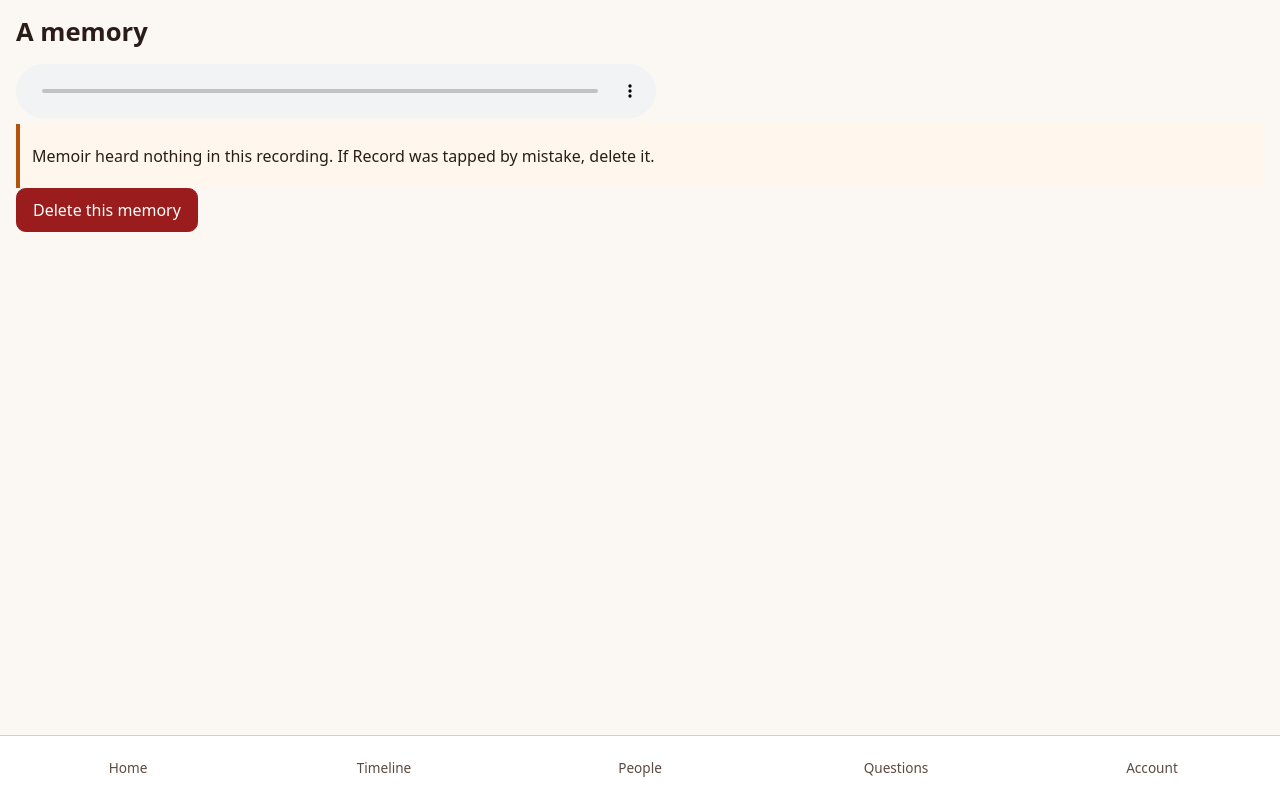
it: a memory with nothing heard says so and can be deleted
The image size is (1280, 800).
Expected: the text "Memoir heard nothing in this recording" is shown, [32, 145, 654, 167]
Click the button "Delete this memory": (107, 210) [16, 188, 198, 232]
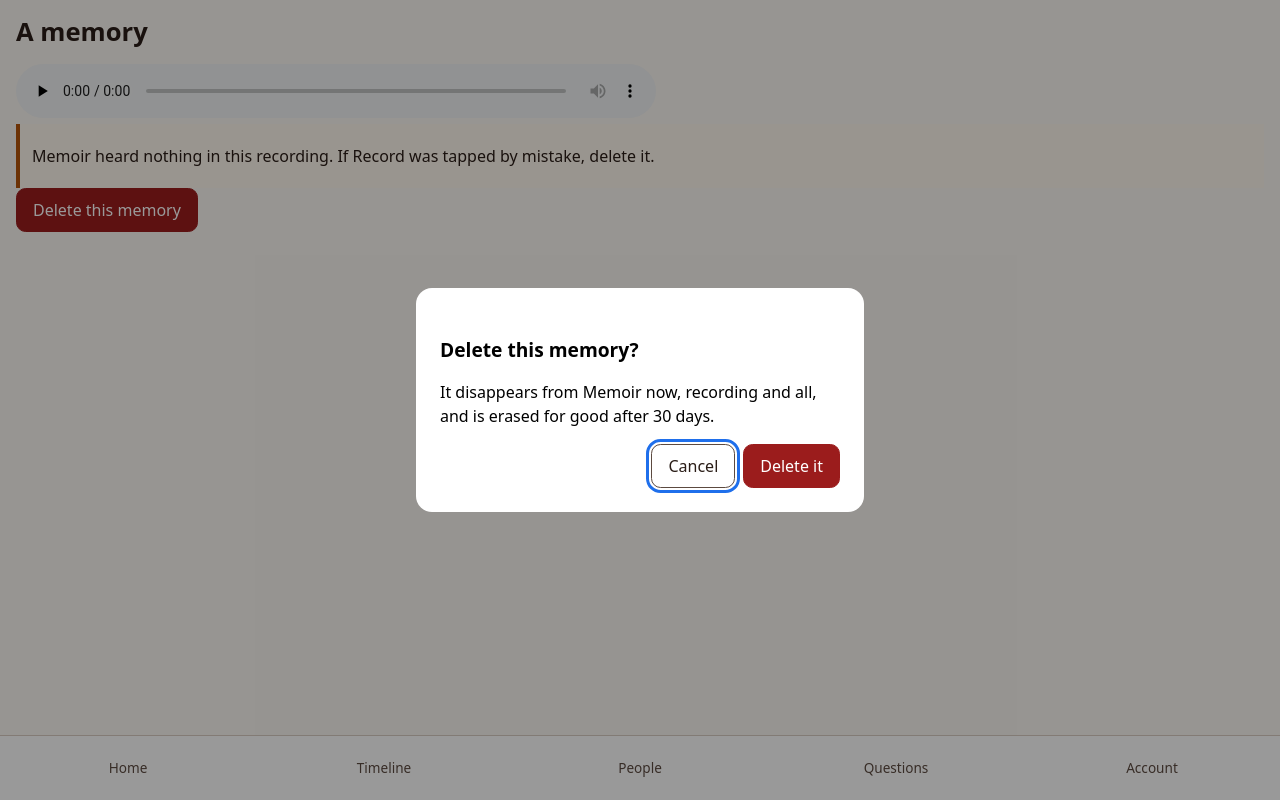
Now the text "erased for good after 30 days" is shown, box [440, 381, 817, 427]
Click the button "Delete it": (792, 466) [743, 444, 840, 488]
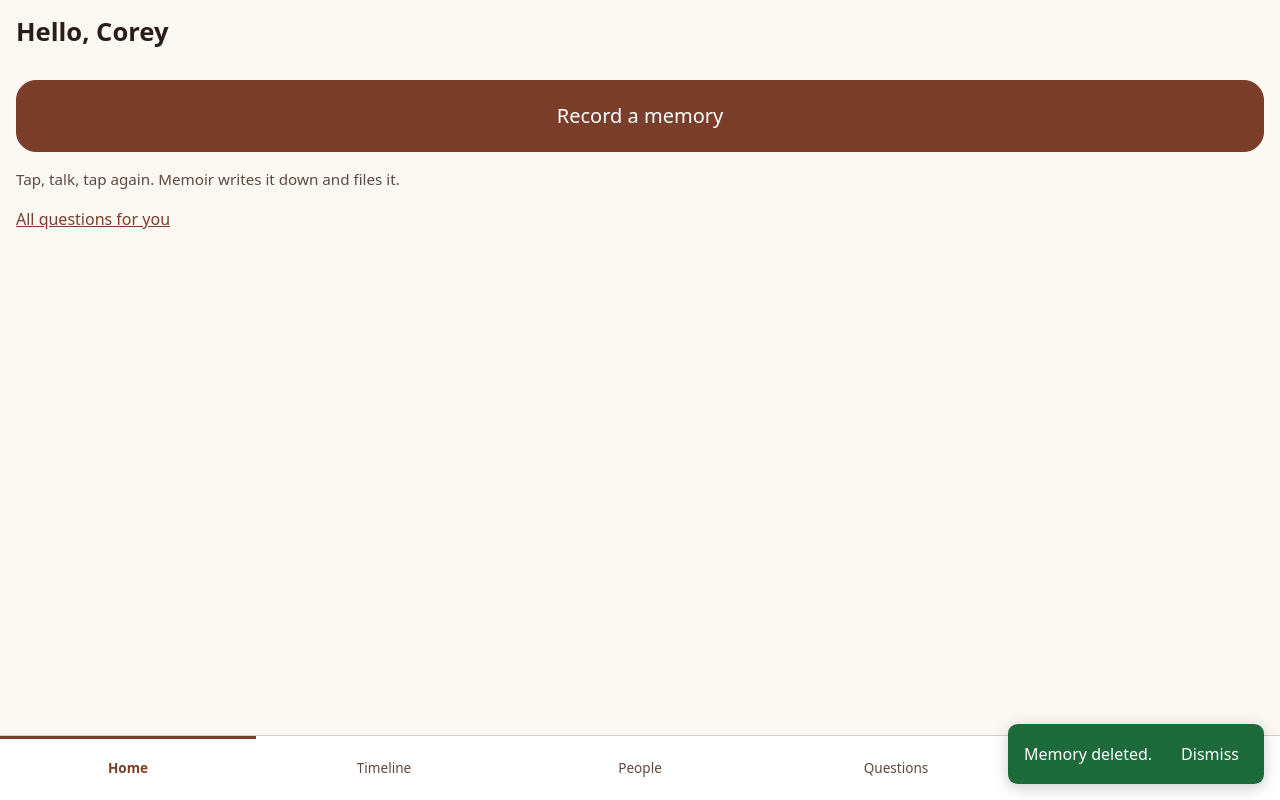
Now the text "Memory deleted." is shown, box [1024, 742, 1152, 766]
